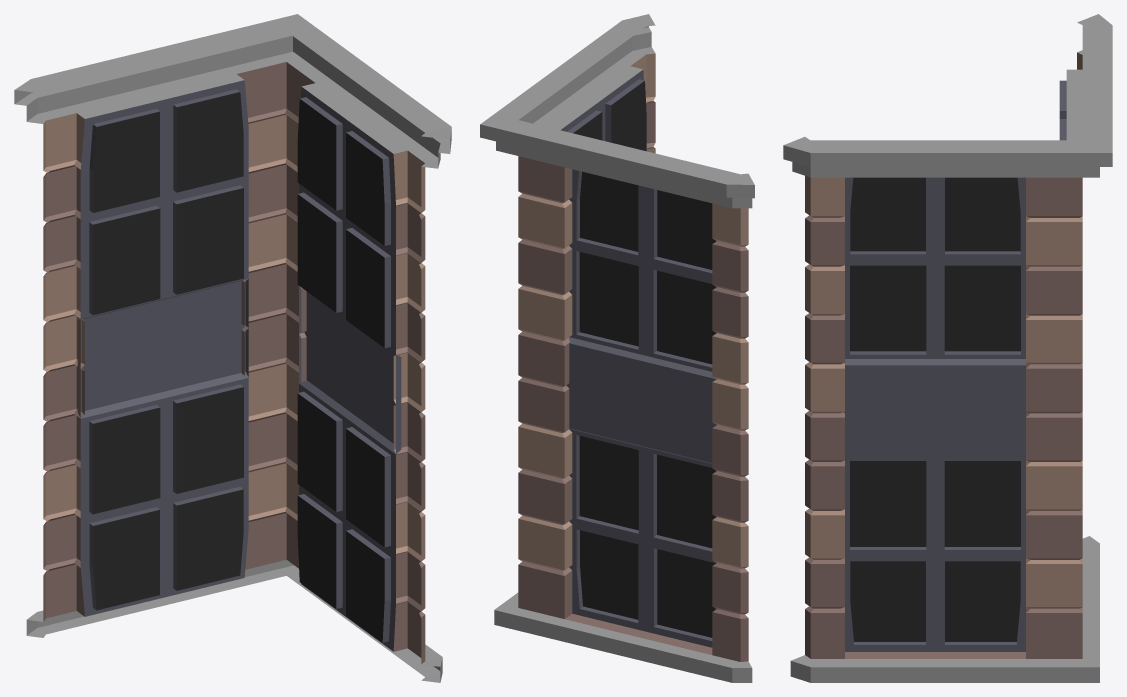
The model's file is facade_d.gltf.
3 renders of one model, left to right at view 1: azimuth 30°, elevation 25°; view 2: azimuth 150°, elevation 25°; view 3: azimuth 270°, elevation 25°, orthographic. The views are drawn at different scales.
Parts seen in each view (by area): view 1: Cube.008; view 2: Cube.008; view 3: Cube.008.
Boxes of the visible parts, x1,y1,x2,y2 form: Cube.008: [14, 14, 451, 682]; Cube.008: [480, 14, 754, 682]; Cube.008: [783, 14, 1112, 682].
Size of the model in its own units: 4.43 by 7.94 by 4.43.
